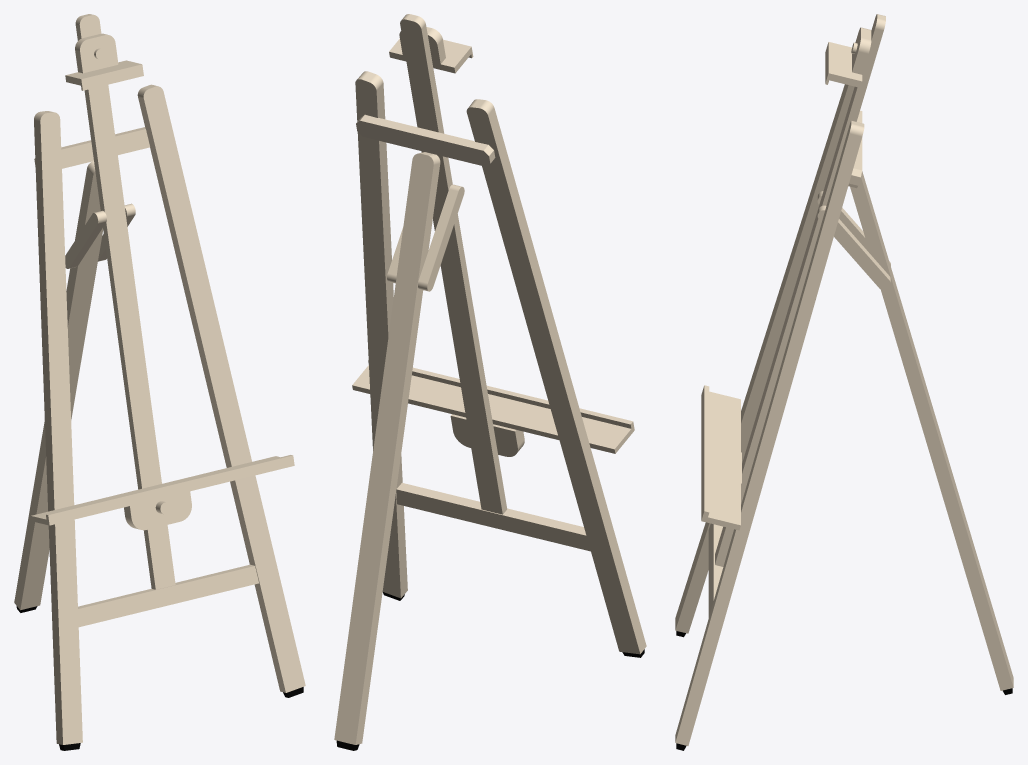
The model's file is 1003_easel.fbx.
The picture shows the model from 3 angles, left to right: view 1: azimuth 30°, elevation 25°; view 2: azimuth 150°, elevation 25°; view 3: azimuth 270°, elevation 25°; orthographic projection. The views are drawn at different scales.
Parts seen in each view (by area): view 1: Body1, Body2, under, top, Body3; view 2: Body1, Body2, under, Body3, top; view 3: Body1, Body2, under, top, Body4.
Part boxes in pixels (box(x1,y1,x2,y2)): Body1: box(34, 14, 305, 750); Body2: box(14, 161, 103, 612); under: box(31, 455, 294, 530); top: box(65, 33, 143, 90); Body3: box(65, 210, 106, 268); Body1: box(355, 14, 646, 657); Body2: box(334, 152, 440, 750); under: box(352, 360, 634, 456); Body3: box(418, 184, 464, 291); top: box(389, 27, 473, 73); Body1: box(675, 14, 885, 750); Body2: box(850, 171, 1013, 694); under: box(701, 385, 741, 530); top: box(825, 27, 871, 87); Body4: box(817, 205, 890, 290).
Size of the model in its own units: 69.19 by 173 by 78.42.
